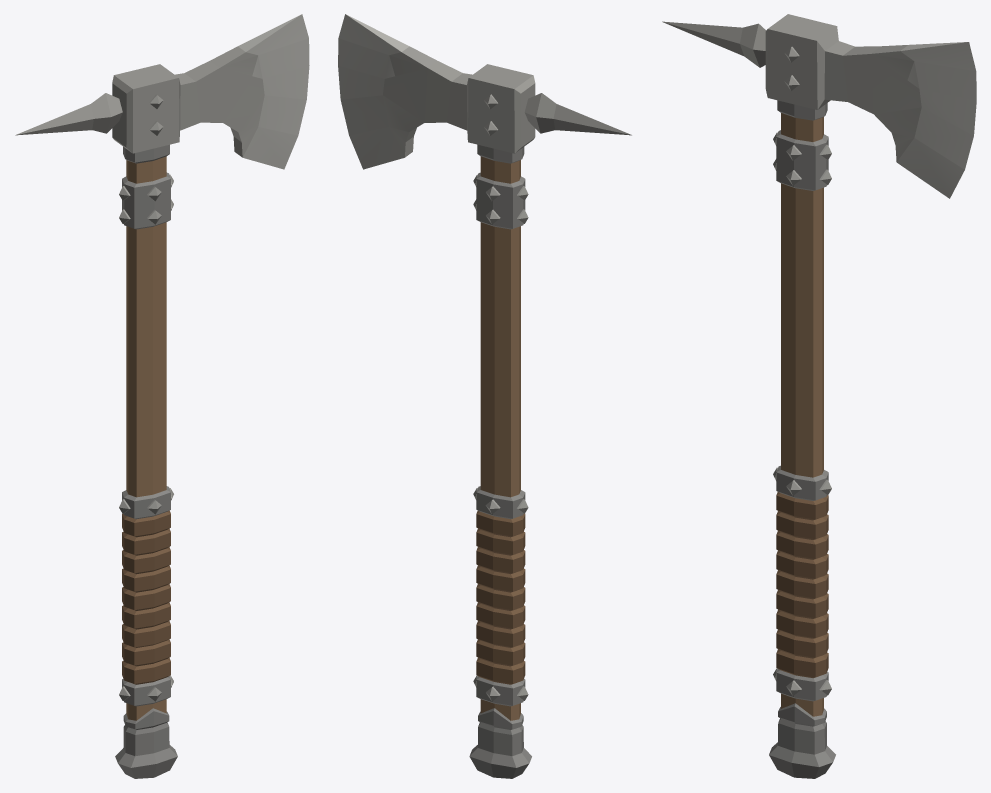
The model's file is SM_pwe_medieval_axe_02.fbx.
3 views of the same model, side by side, from view 1: azimuth 30°, elevation 25°; view 2: azimuth 150°, elevation 25°; view 3: azimuth 330°, elevation 25° (orthographic). The views are drawn at different scales.
Visible parts, largest first — view 1: SM_pwe_medieval_axe_02; view 2: SM_pwe_medieval_axe_02; view 3: SM_pwe_medieval_axe_02.
Part boxes in pixels (left/top/right/bottom): SM_pwe_medieval_axe_02: left=15, top=14, right=309, bottom=778; SM_pwe_medieval_axe_02: left=338, top=14, right=631, bottom=778; SM_pwe_medieval_axe_02: left=662, top=14, right=976, bottom=778.
Size of the model in its own units: 38.26 by 89.25 by 5.76.
